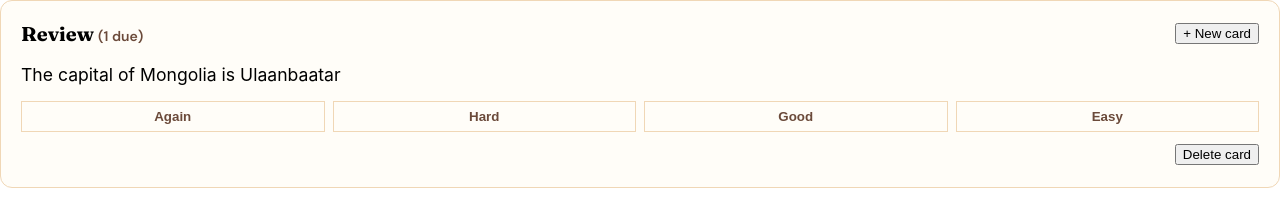
Scenario: Delete card asks for confirmation and Cancel backs out
Click the button "Delete card" at (1217, 154), box left=1175, top=144, right=1259, bottom=165
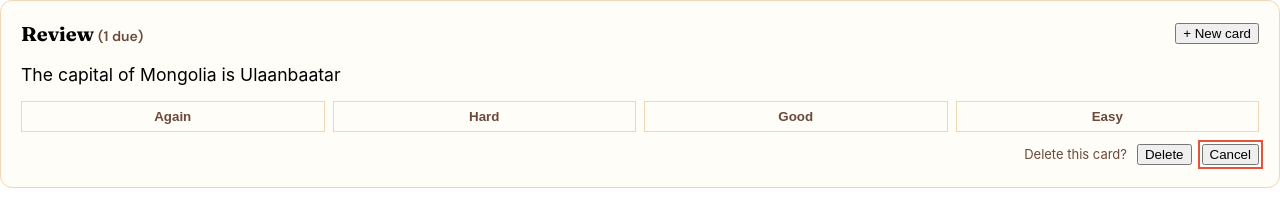
Now the text "Delete this card?" is shown, box left=1024, top=146, right=1127, bottom=162
Now the button "Delete card" is gone
Click the button "Cancel" at (1230, 154), box left=1202, top=144, right=1259, bottom=165
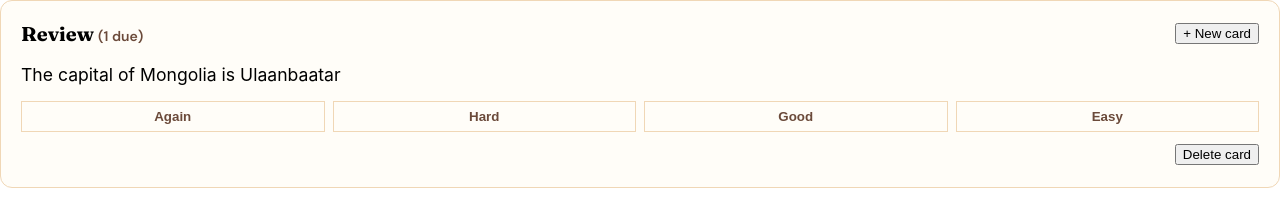
Now the text "Delete this card?" is gone
Now the button "Delete card" is shown, box left=1175, top=144, right=1259, bottom=165
